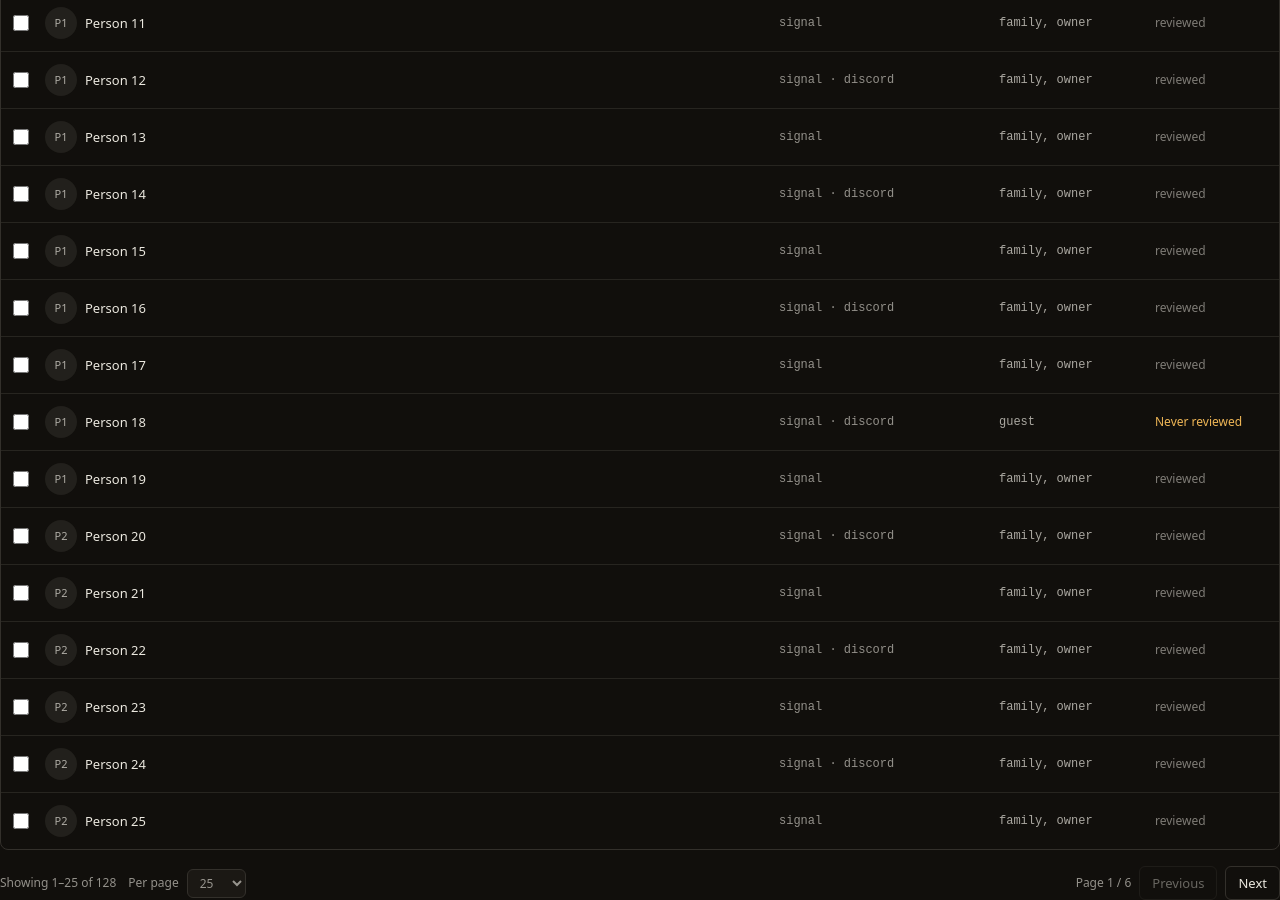
Test: the people list footer › stops the last page at the total, not at page × perPage
The width and height of the screenshot is (1280, 900).
(page scrolled)
Click the button "Next".
click(1253, 883)  # box [1226, 866, 1279, 899]
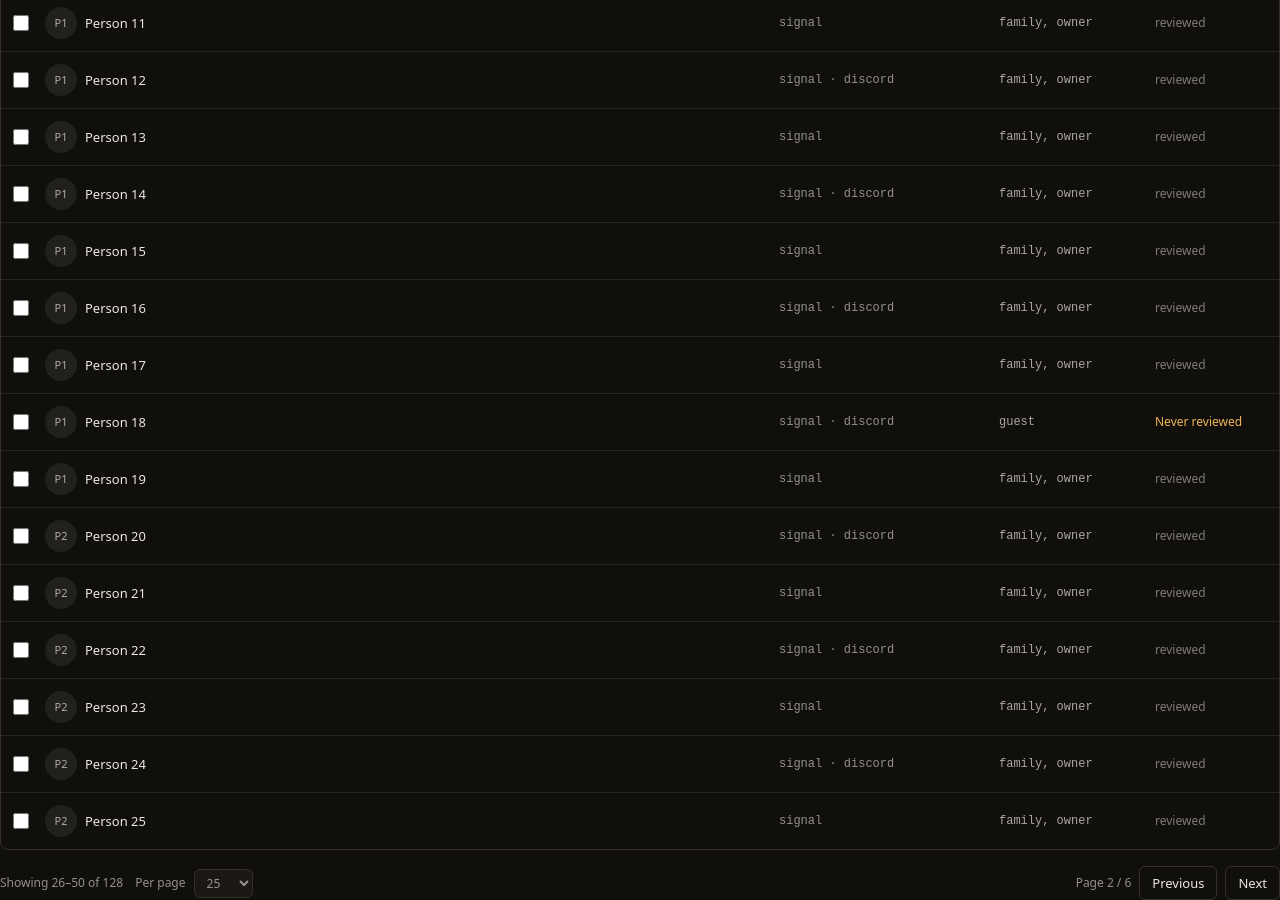
Expected: the text "Page 2 / 6" is shown, [1076, 874, 1131, 892]
Click the button "Next".
click(1253, 883)  # box [1226, 866, 1279, 899]
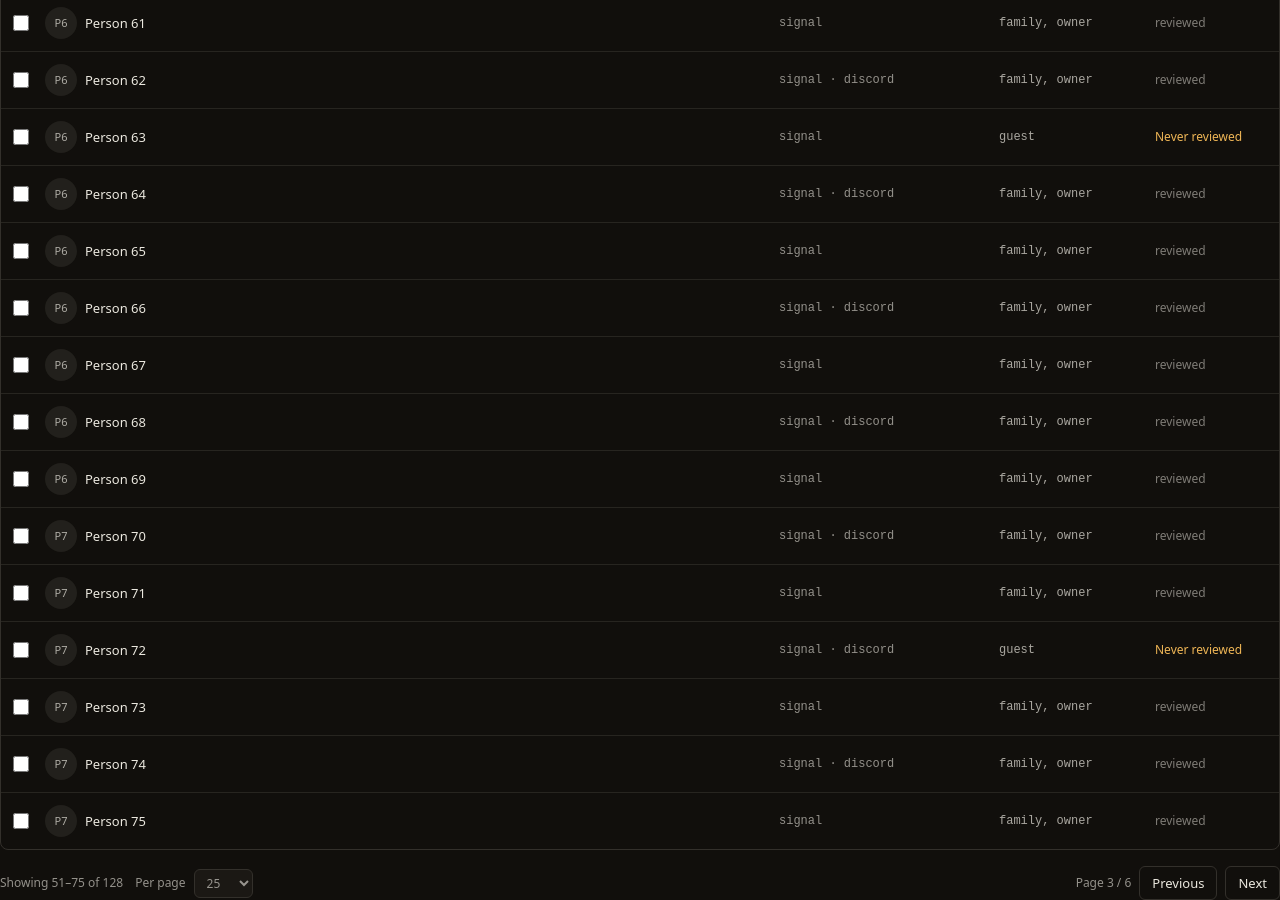
Click the button "Next".
click(1253, 883)  # box [1226, 866, 1279, 899]
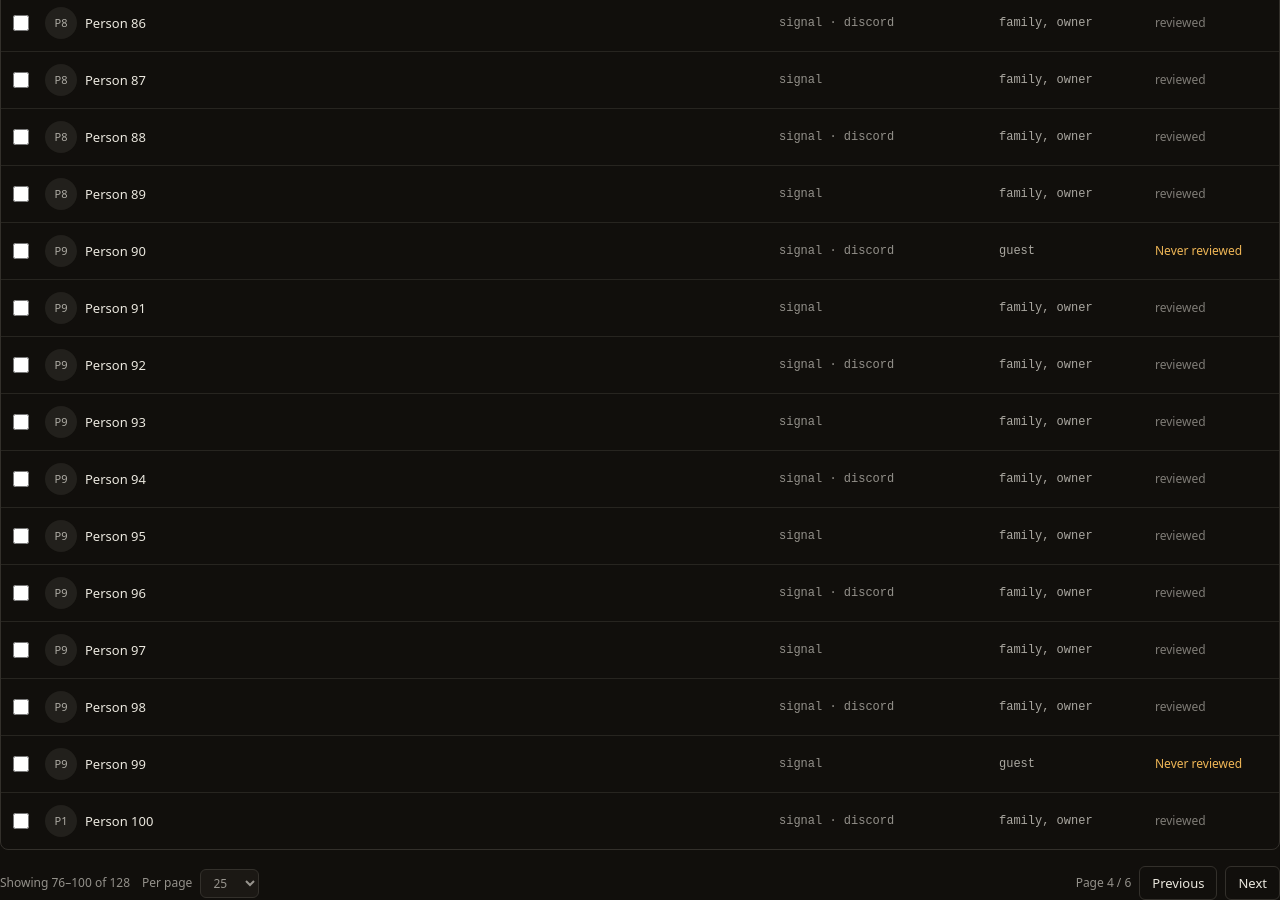
Click the button "Next".
click(1253, 883)  # box [1226, 866, 1279, 899]
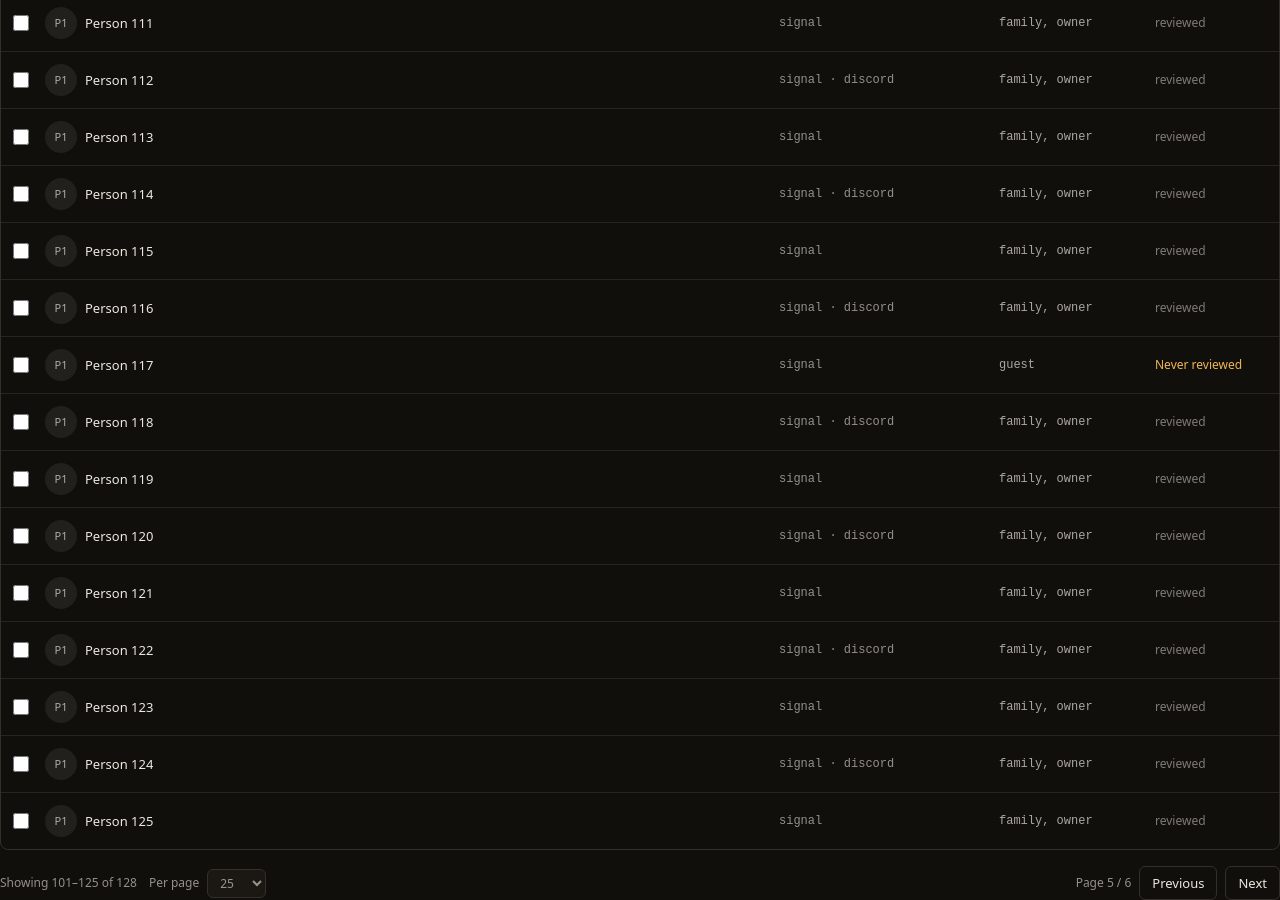
Click the button "Next".
click(1253, 883)  # box [1226, 866, 1279, 899]
(page scrolled)
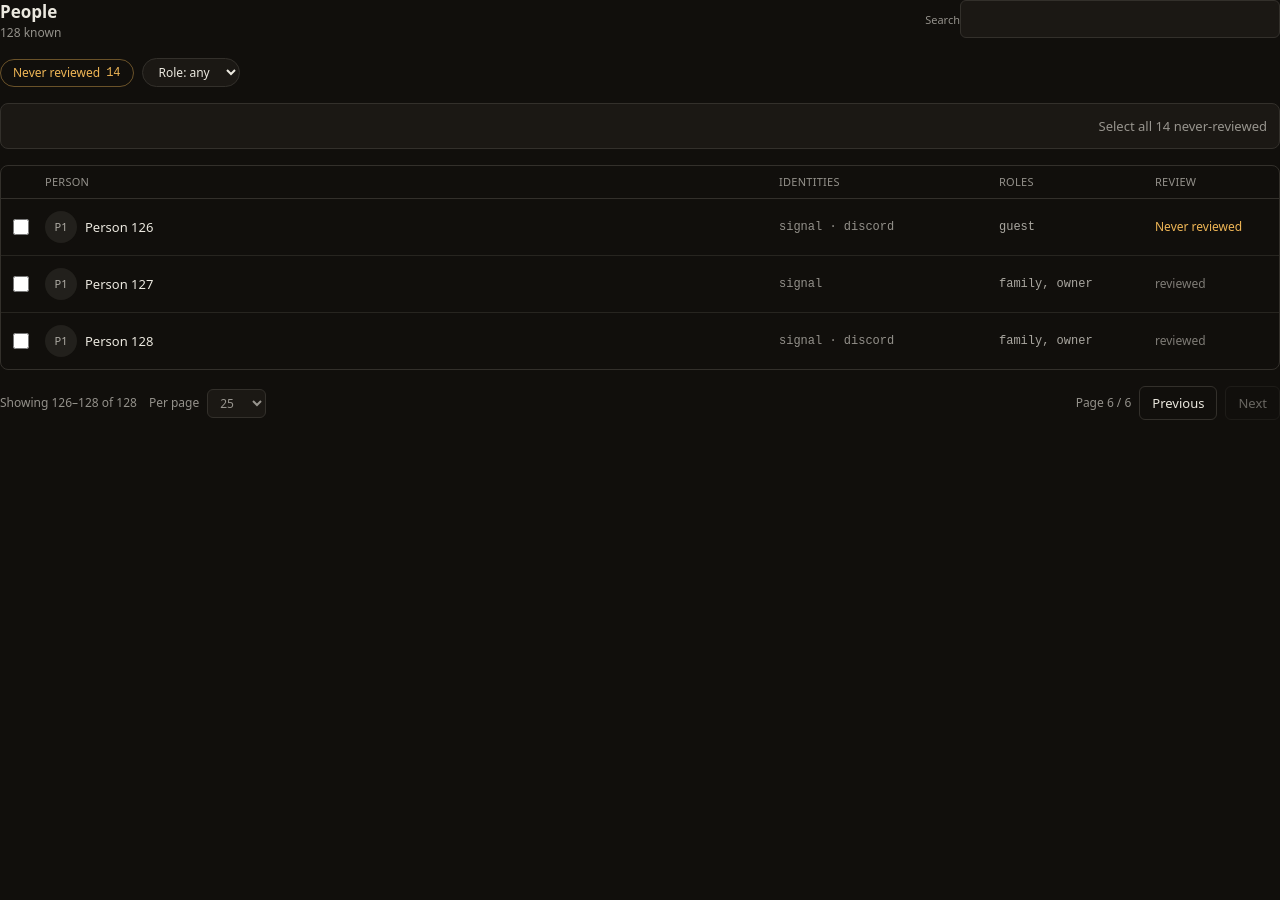
Expected: the text "Showing 126–128 of 128" is shown, [0, 394, 137, 412]
Expected: the button "Next" is disabled, [1226, 386, 1279, 420]
